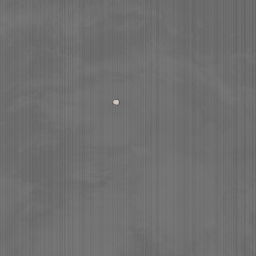Target: (111, 98, 121, 107)
